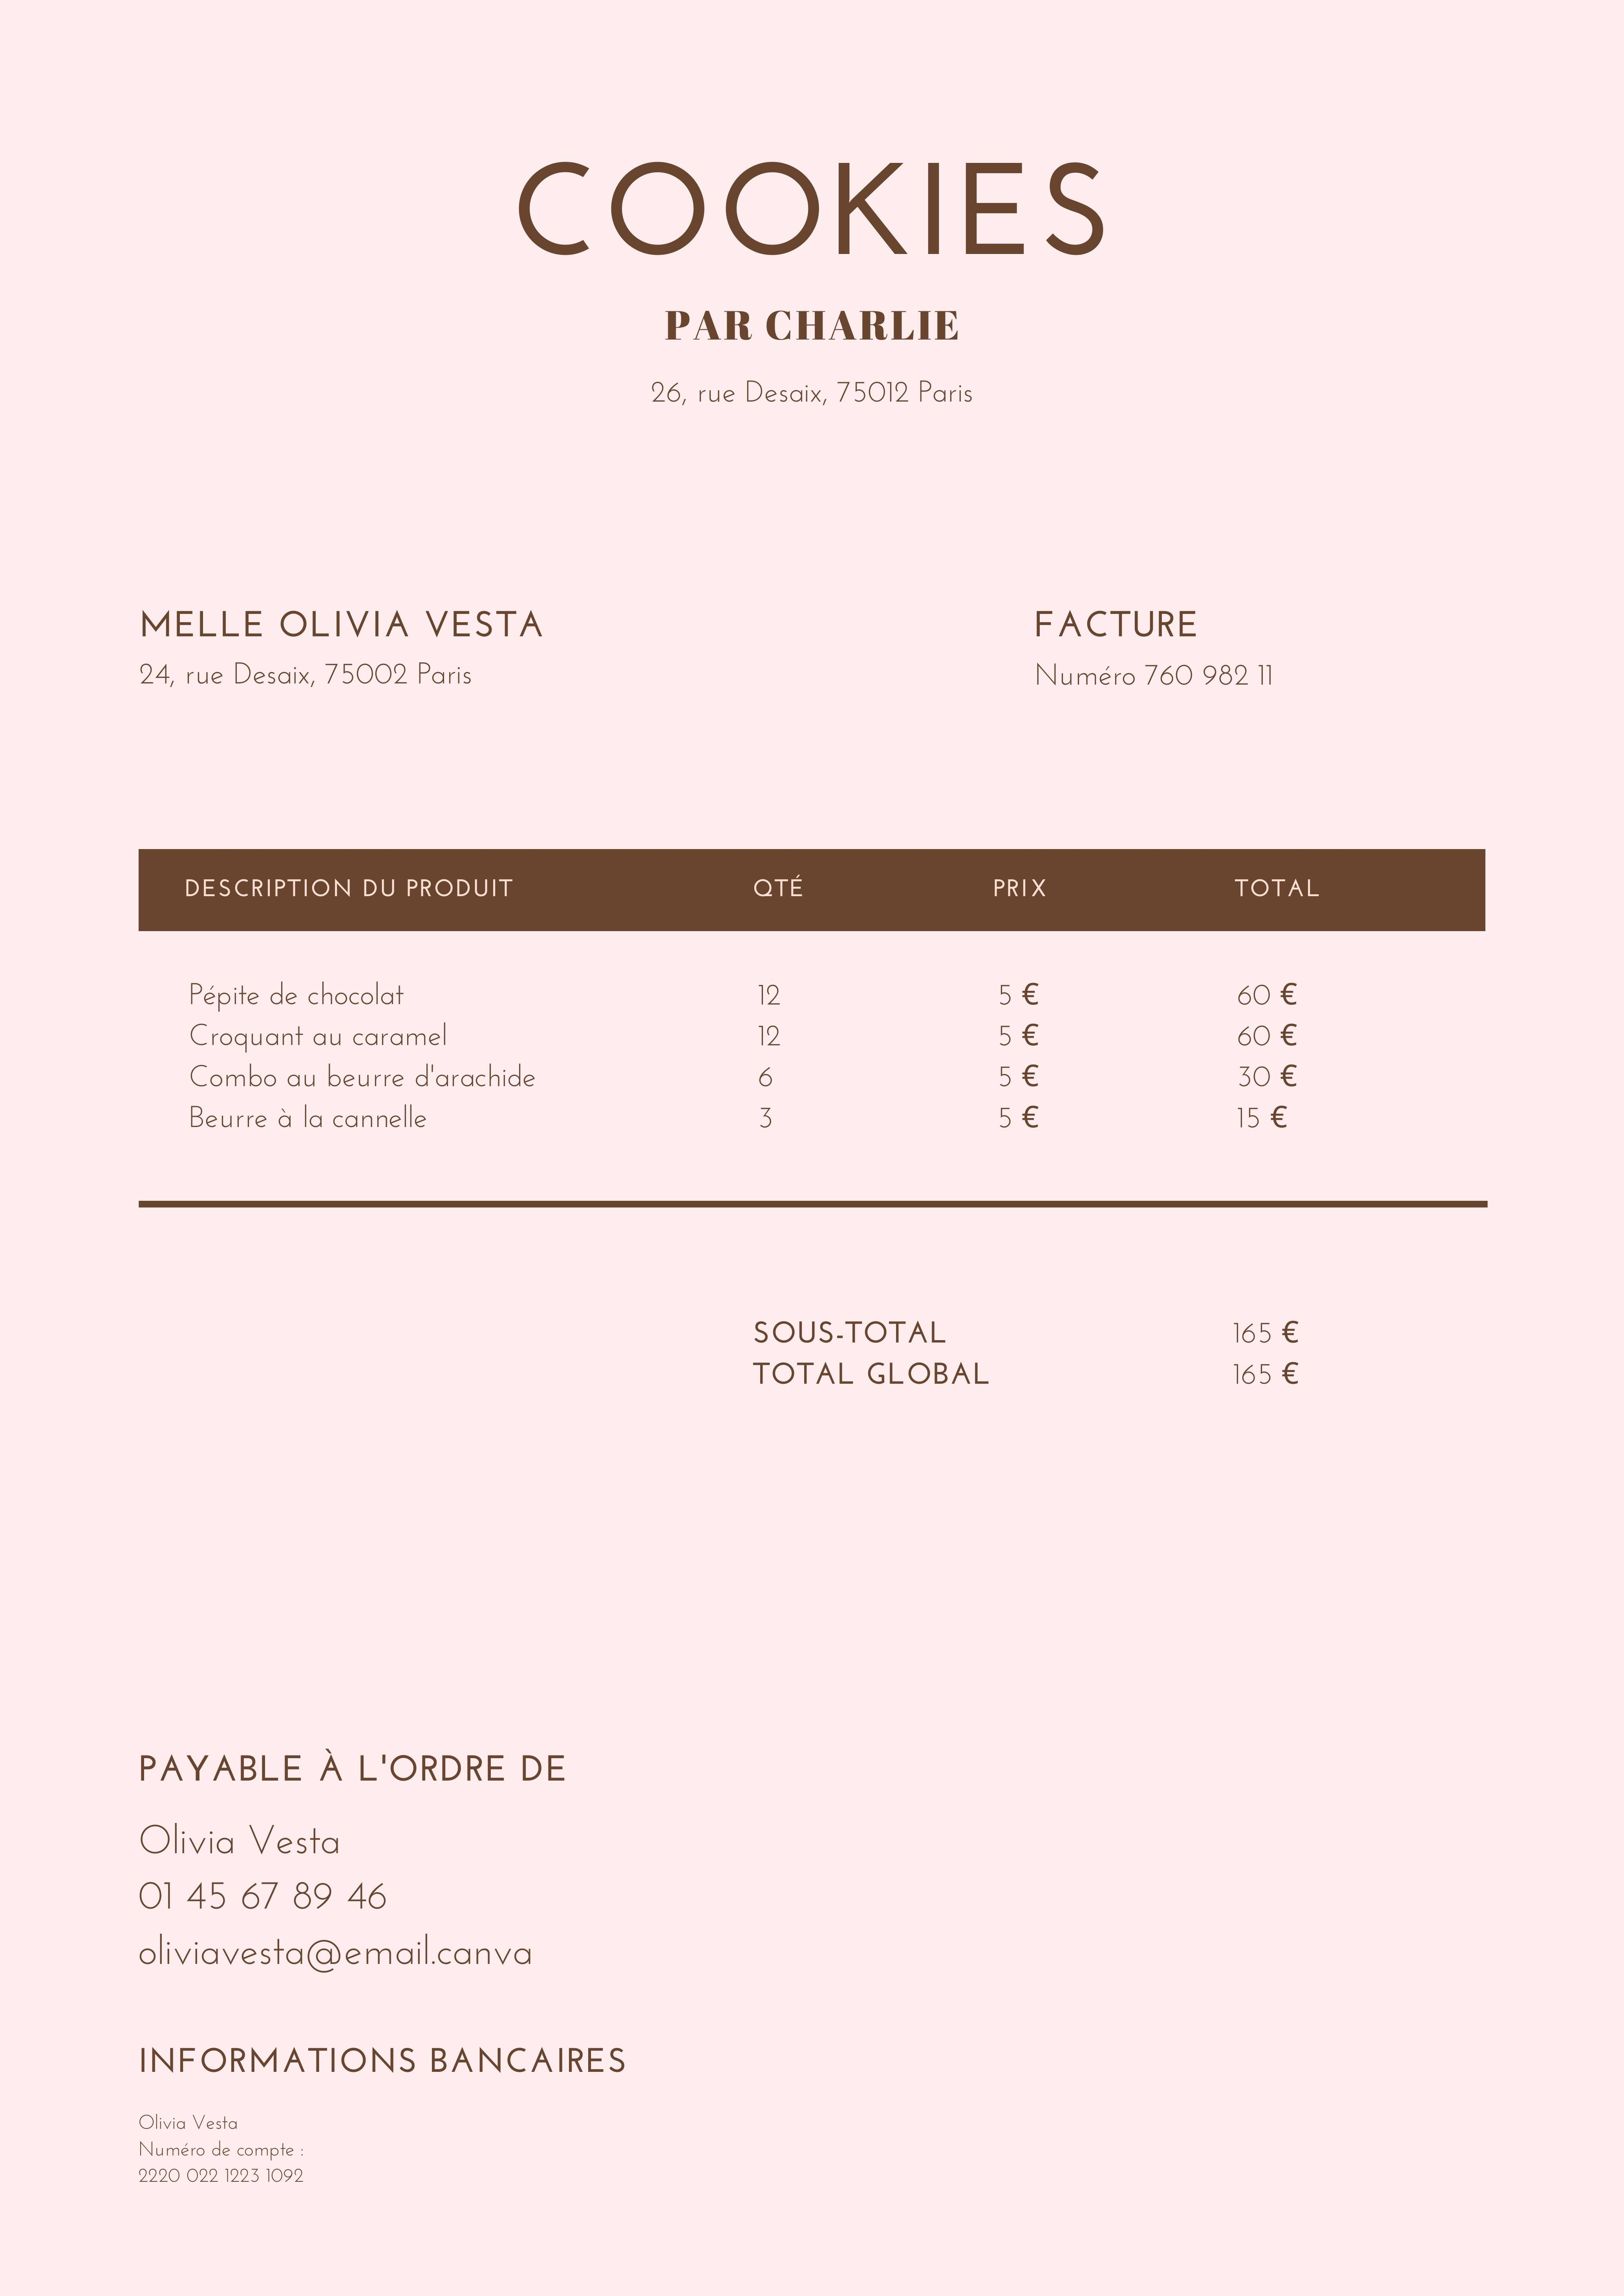ROI: (146, 859, 1478, 1198), (134, 1739, 680, 2205), (492, 155, 1135, 436), (736, 1296, 1322, 1407), (125, 592, 578, 696), (997, 574, 1297, 703)
